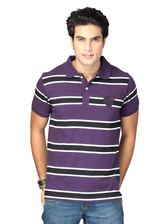clothoes: (32, 55, 140, 201)
